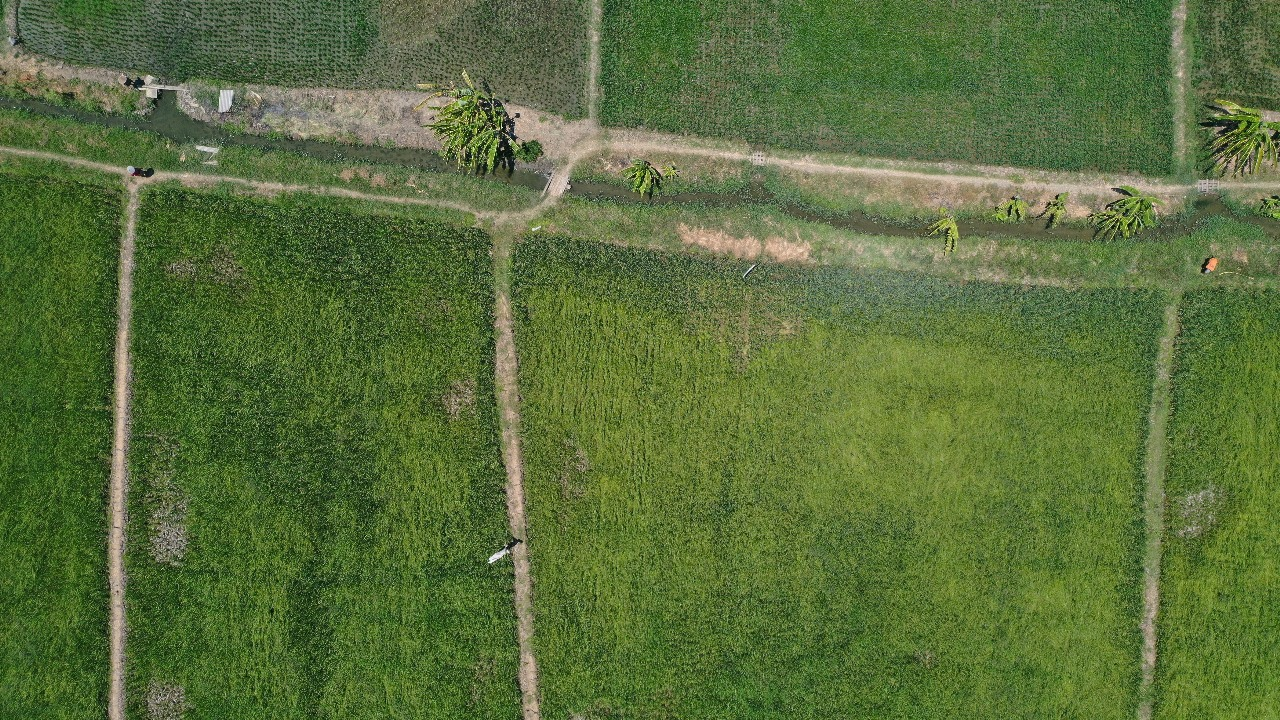irigation: (484, 237, 544, 720), (1135, 283, 1191, 720), (104, 193, 142, 720), (652, 184, 886, 240), (252, 123, 438, 183), (1, 73, 139, 147), (126, 96, 273, 164), (1155, 187, 1279, 249), (501, 160, 630, 212), (965, 211, 1095, 254), (875, 197, 932, 253)
